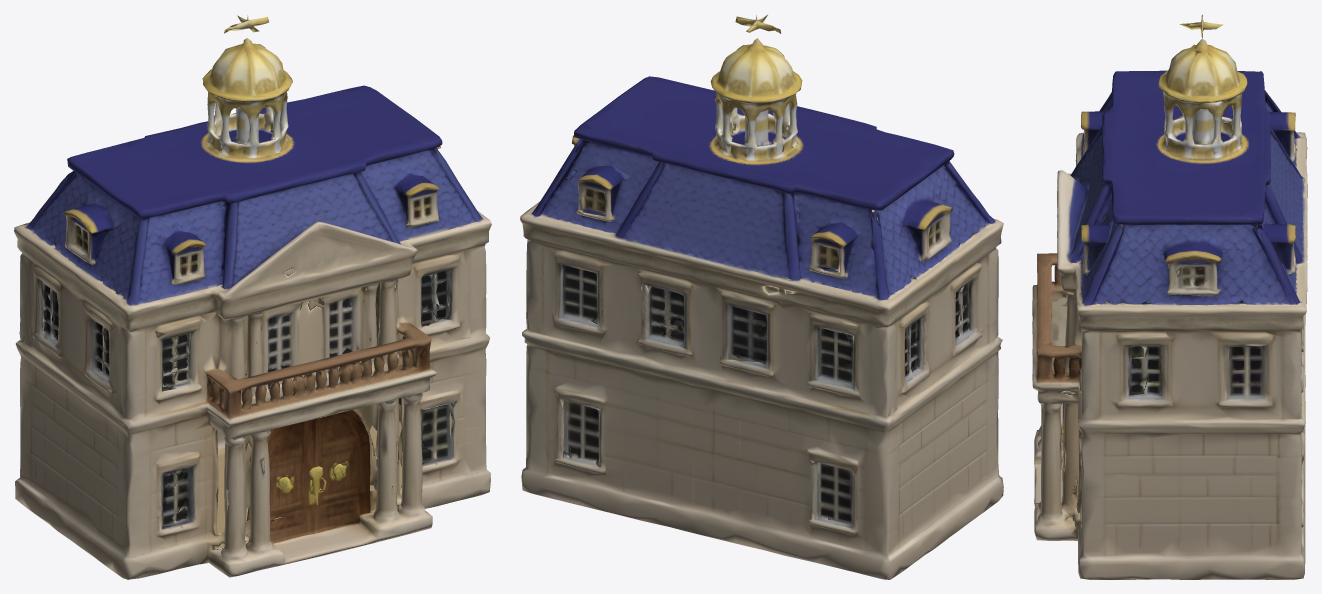
File: env_colossus_manor.glb
The picture shows the model from 3 angles, left to right: view 1: azimuth 30°, elevation 25°; view 2: azimuth 150°, elevation 25°; view 3: azimuth 270°, elevation 25°; orthographic projection.
Visible parts, largest first — view 1: world; view 2: world; view 3: world.
Boxes of the visible parts, x1,y1,x2,y2 form: world: (14,15,491,579); world: (520,14,1003,579); world: (1032,14,1307,579).
Size of the model in its own units: 0.7919 by 0.9872 by 0.5162.
Materials: 1 (1 with a texture image).
